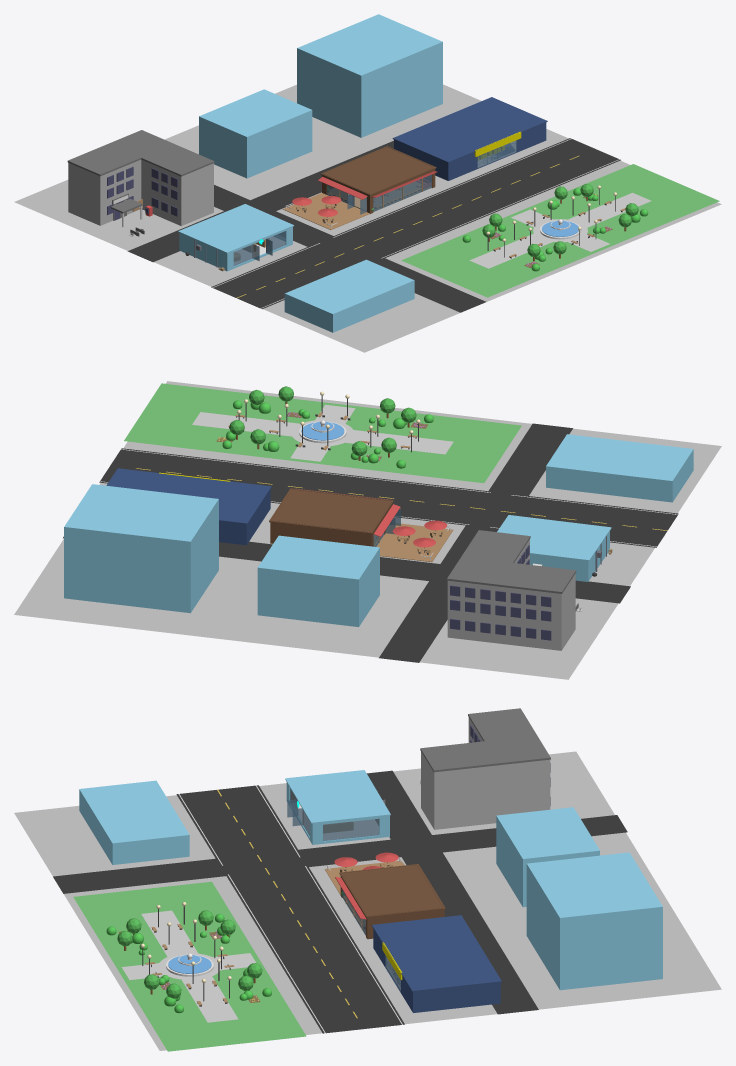
File: Urban_Blockout.fbx
3 views of the same model, one above another, from view 1: azimuth 30°, elevation 25°; view 2: azimuth 150°, elevation 25°; view 3: azimuth 270°, elevation 25° (orthographic). The views are drawn at different scales.
Visible parts, largest first — view 1: City_Base_Ground, Road_Street_A, Building_BL02_B, Park_Ground, Building_BL02_A, Building_BL05_A, Mart_Roof, Academy_Wall_Right, Park_Merged_Park_Stone, Cafe_Roof, Pharmacy_Roof, Academy_Wall_Top (+14 smaller); view 2: City_Base_Ground, Building_BL02_B, Park_Ground, Road_Street_A, Building_BL02_A, Building_BL05_A, Academy_Wall_Top, Park_Merged_Park_Stone, Cafe_Roof, Mart_Roof, Pharmacy_Roof, Road_Avenue_1_N (+13 smaller); view 3: City_Base_Ground, Road_Street_A, Building_BL02_B, Park_Ground, Road_Street_1, Building_BL05_A, Mart_Roof, Building_BL02_A, Academy_Wall_Right, Park_Merged_Park_Stone, Pharmacy_Roof, Cafe_Roof (+14 smaller).
Boxes of the visible parts, x1=… form: City_Base_Ground: x1=14, y1=84, x2=721, y2=352; Road_Street_A: x1=211, y1=138, x2=620, y2=309; Building_BL02_B: x1=297, y1=14, x2=442, y2=137; Park_Ground: x1=401, y1=164, x2=719, y2=297; Building_BL02_A: x1=199, y1=89, x2=312, y2=178; Building_BL05_A: x1=284, y1=259, x2=414, y2=332; Mart_Roof: x1=392, y1=97, x2=547, y2=162; Academy_Wall_Right: x1=141, y1=159, x2=213, y2=226; Park_Merged_Park_Stone: x1=469, y1=192, x2=651, y2=268; Cafe_Roof: x1=320, y1=146, x2=436, y2=195; Pharmacy_Roof: x1=178, y1=204, x2=294, y2=253; Academy_Wall_Top: x1=68, y1=159, x2=141, y2=225; City_Base_Ground: x1=14, y1=381, x2=721, y2=679; Building_BL02_B: x1=64, y1=484, x2=218, y2=613; Park_Ground: x1=124, y1=383, x2=521, y2=483; Road_Street_A: x1=99, y1=448, x2=678, y2=547; Building_BL02_A: x1=257, y1=535, x2=379, y2=626; Building_BL05_A: x1=546, y1=434, x2=693, y2=502; Academy_Wall_Top: x1=447, y1=573, x2=575, y2=650; Park_Merged_Park_Stone: x1=192, y1=404, x2=453, y2=461; Cafe_Roof: x1=269, y1=488, x2=393, y2=534; Mart_Roof: x1=106, y1=468, x2=271, y2=524; Pharmacy_Roof: x1=497, y1=515, x2=611, y2=560; Road_Avenue_1_N: x1=379, y1=579, x2=447, y2=662; City_Base_Ground: x1=14, y1=751, x2=721, y2=1050; Road_Street_A: x1=176, y1=785, x2=404, y2=1033; Building_BL02_B: x1=526, y1=852, x2=662, y2=990; Park_Ground: x1=73, y1=881, x2=306, y2=1051; Road_Street_1: x1=367, y1=770, x2=538, y2=1014; Building_BL05_A: x1=79, y1=780, x2=189, y2=864; Mart_Roof: x1=372, y1=915, x2=501, y2=991; Building_BL02_A: x1=496, y1=807, x2=599, y2=907; Academy_Wall_Right: x1=421, y1=751, x2=498, y2=829; Park_Merged_Park_Stone: x1=121, y1=910, x2=255, y2=1022; Pharmacy_Roof: x1=285, y1=770, x2=390, y2=823; Cafe_Roof: x1=339, y1=864, x2=445, y2=917.
Bounding box in the file's own units: 13370 × 1750 × 13312.
